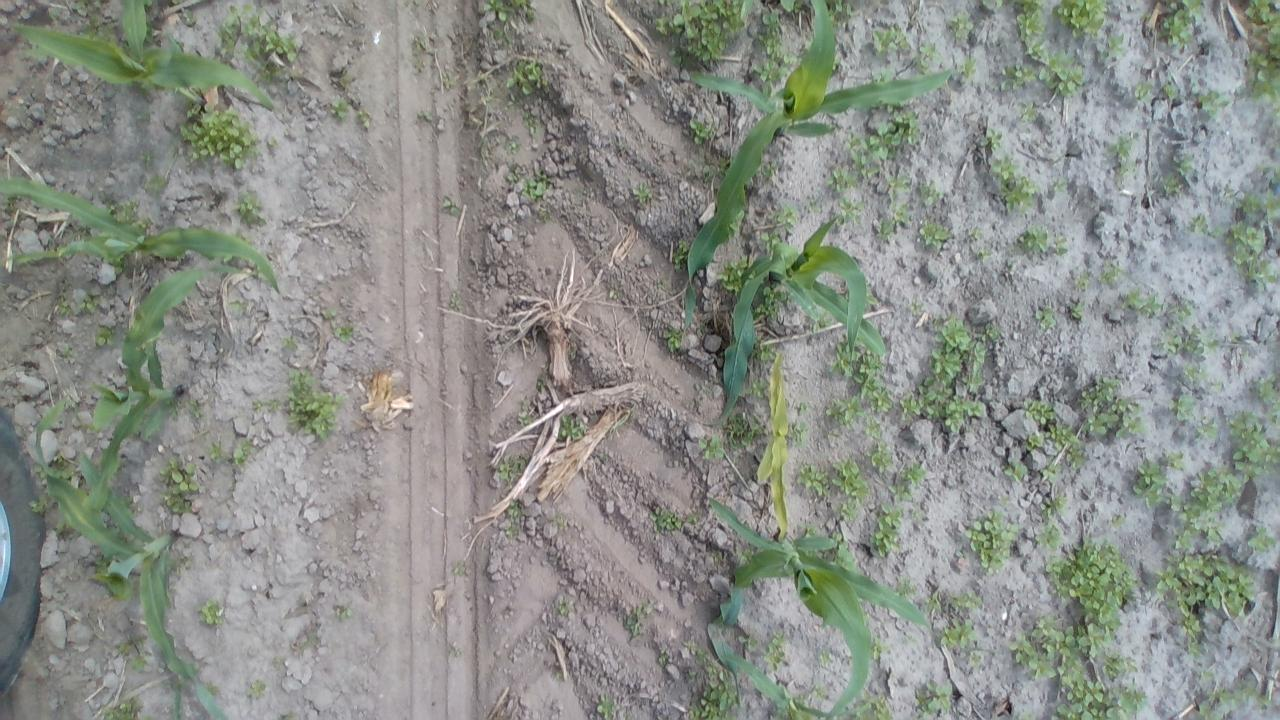Maize: (682, 0, 954, 351), (31, 402, 229, 720), (692, 484, 930, 720), (59, 264, 258, 532), (707, 216, 886, 430), (0, 175, 286, 295), (3, 0, 276, 110)
Weeds: (898, 313, 986, 432), (1155, 552, 1254, 655), (1047, 544, 1132, 630), (211, 4, 302, 80), (660, 0, 746, 63), (173, 106, 257, 166), (1050, 651, 1123, 719), (832, 339, 894, 413), (277, 368, 341, 437), (686, 641, 738, 720), (1226, 410, 1280, 480), (1248, 0, 1280, 105), (1026, 37, 1080, 95), (1196, 679, 1271, 719), (970, 510, 1016, 572), (758, 12, 798, 82), (1036, 618, 1112, 654), (1089, 398, 1151, 440), (476, 0, 534, 42), (158, 457, 198, 515), (871, 114, 921, 160), (1187, 470, 1242, 509), (1012, 634, 1056, 682), (1232, 244, 1280, 284), (830, 452, 869, 500), (1059, 0, 1107, 37), (1132, 458, 1168, 507), (1048, 422, 1086, 468), (1157, 322, 1205, 358), (874, 503, 904, 556), (1080, 375, 1120, 412), (872, 202, 914, 235), (650, 504, 700, 530), (798, 464, 834, 500), (726, 411, 766, 443), (1106, 682, 1147, 712), (1124, 288, 1166, 317), (1001, 174, 1035, 209), (916, 680, 951, 714), (506, 63, 545, 93), (825, 395, 866, 423), (1014, 0, 1044, 37), (842, 126, 869, 166), (853, 692, 894, 718), (719, 254, 747, 292), (870, 26, 909, 53), (122, 632, 148, 672), (1164, 10, 1192, 47), (1172, 497, 1204, 528), (944, 618, 977, 648), (1242, 189, 1280, 215), (1228, 225, 1266, 251), (1251, 373, 1280, 406), (227, 436, 254, 470), (1104, 654, 1138, 680), (838, 198, 868, 226), (920, 219, 952, 245), (108, 197, 141, 222), (950, 10, 975, 42), (1018, 226, 1048, 252), (1024, 399, 1055, 424), (624, 604, 648, 636), (1036, 523, 1062, 551), (1246, 527, 1275, 552), (775, 204, 804, 229), (700, 435, 726, 462), (1042, 495, 1070, 520), (238, 196, 262, 225), (952, 590, 982, 613), (1167, 294, 1193, 320), (1200, 519, 1226, 545), (1178, 393, 1200, 423), (900, 461, 925, 487), (1114, 132, 1132, 168), (826, 253, 854, 276), (862, 413, 884, 442), (916, 45, 940, 71), (1008, 63, 1034, 87), (144, 171, 168, 196), (886, 174, 910, 198), (766, 632, 782, 668), (103, 704, 139, 720), (764, 284, 788, 308), (991, 156, 1016, 179), (836, 544, 857, 571), (1098, 266, 1126, 286), (919, 182, 944, 204), (556, 418, 582, 439), (690, 117, 711, 143), (1161, 170, 1182, 195), (886, 482, 912, 502), (200, 600, 220, 626), (841, 498, 862, 522), (528, 176, 546, 204), (1166, 450, 1188, 472), (789, 420, 810, 443), (870, 452, 894, 472), (1201, 88, 1218, 116), (1196, 420, 1222, 438), (1174, 154, 1200, 172), (1035, 308, 1057, 329), (1172, 529, 1194, 550), (1184, 0, 1206, 21), (814, 312, 836, 333), (1068, 298, 1088, 320), (1006, 461, 1028, 481), (706, 156, 728, 176), (30, 494, 50, 516), (1072, 270, 1090, 294), (1184, 361, 1204, 382), (1107, 34, 1128, 54), (674, 236, 688, 266), (871, 636, 890, 658), (760, 340, 779, 362), (829, 1, 855, 17), (1040, 464, 1060, 484), (984, 130, 1004, 150), (279, 334, 299, 354), (749, 378, 768, 399), (760, 158, 779, 179), (508, 166, 524, 190), (444, 196, 462, 217), (1257, 161, 1279, 178), (665, 328, 681, 351), (250, 400, 278, 413), (332, 69, 350, 89), (1190, 213, 1207, 234), (910, 296, 926, 318), (924, 592, 940, 614), (522, 114, 538, 136), (598, 693, 612, 718), (896, 578, 913, 598), (872, 68, 896, 82), (329, 100, 350, 116), (633, 184, 651, 202), (230, 299, 248, 317), (210, 441, 228, 459), (96, 330, 114, 348), (1028, 430, 1044, 450), (1022, 101, 1038, 121), (1049, 179, 1069, 195), (739, 632, 755, 652), (859, 166, 881, 180), (1224, 180, 1239, 200), (416, 110, 437, 124), (962, 58, 978, 76), (1134, 82, 1150, 100), (339, 324, 357, 340), (450, 642, 464, 662), (250, 681, 267, 697), (50, 452, 66, 468), (986, 323, 1001, 340), (984, 1, 1005, 13), (742, 0, 754, 21), (1056, 236, 1068, 256), (56, 298, 68, 318), (1164, 85, 1178, 101), (336, 606, 352, 620), (359, 110, 372, 127), (761, 232, 779, 244), (450, 292, 462, 310), (803, 520, 818, 534), (82, 296, 96, 310), (266, 134, 280, 148), (558, 600, 570, 616), (498, 463, 509, 480), (978, 248, 992, 261), (969, 650, 983, 663), (742, 550, 756, 563), (455, 563, 469, 576), (321, 310, 339, 320), (507, 502, 518, 518), (414, 57, 427, 70), (608, 288, 622, 300), (754, 306, 770, 316), (142, 218, 155, 230), (820, 652, 831, 666), (657, 648, 668, 662), (712, 551, 723, 565), (144, 152, 154, 167), (1206, 339, 1218, 351), (518, 412, 530, 424), (798, 402, 809, 415), (416, 38, 426, 52), (969, 227, 980, 238), (832, 530, 844, 540), (1226, 332, 1240, 340), (444, 72, 452, 86), (1211, 228, 1222, 238), (686, 668, 696, 678), (796, 694, 805, 704), (504, 529, 514, 538), (1275, 111, 1280, 128), (508, 144, 518, 152), (819, 687, 826, 696)
